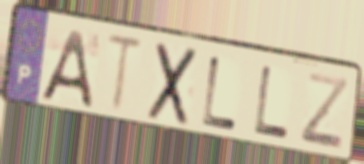A: (37, 27, 95, 110)
L: (200, 53, 240, 133), (251, 63, 290, 142)
T: (104, 30, 146, 118)
X: (144, 40, 200, 129)
Z: (297, 69, 351, 153)
